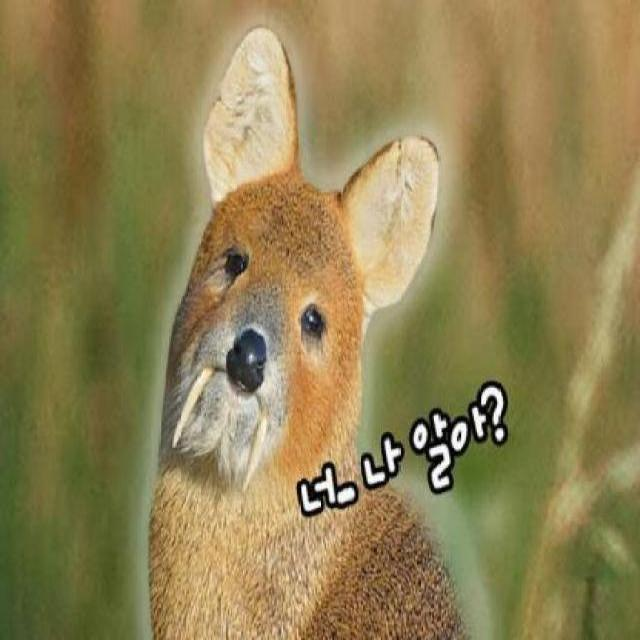deer: (138, 0, 473, 637)
